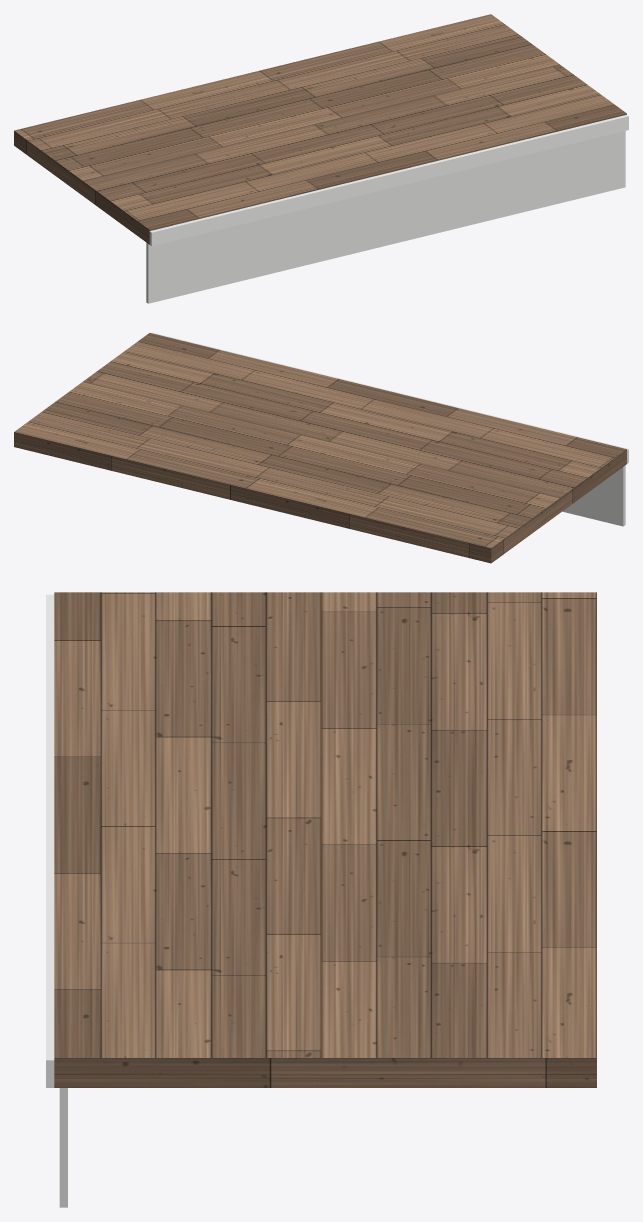
Rendered from porch_deck.glb.
3 renders of one model, top to bottom at view 1: azimuth 30°, elevation 25°; view 2: azimuth 150°, elevation 25°; view 3: azimuth 270°, elevation 25°, orthographic. The views are drawn at different scales.
Parts seen in each view (by area): view 1: porch_deck_deck, porch_deck_lattice, porch_deck_trim; view 2: porch_deck_deck, porch_deck_lattice, porch_deck_trim; view 3: porch_deck_deck, porch_deck_trim, porch_deck_lattice.
Part boxes in pixels (x1,y1,x2,y2): porch_deck_deck: [14, 14, 626, 244]; porch_deck_lattice: [146, 131, 625, 303]; porch_deck_trim: [149, 115, 628, 246]; porch_deck_deck: [14, 333, 626, 563]; porch_deck_lattice: [562, 465, 625, 526]; porch_deck_trim: [151, 332, 628, 463]; porch_deck_deck: [54, 592, 596, 1087]; porch_deck_trim: [46, 594, 54, 1087]; porch_deck_lattice: [59, 1088, 67, 1207].
Bounding box in the file's own units: 4 × 0.6 × 2.
3 materials, 1 textured.
